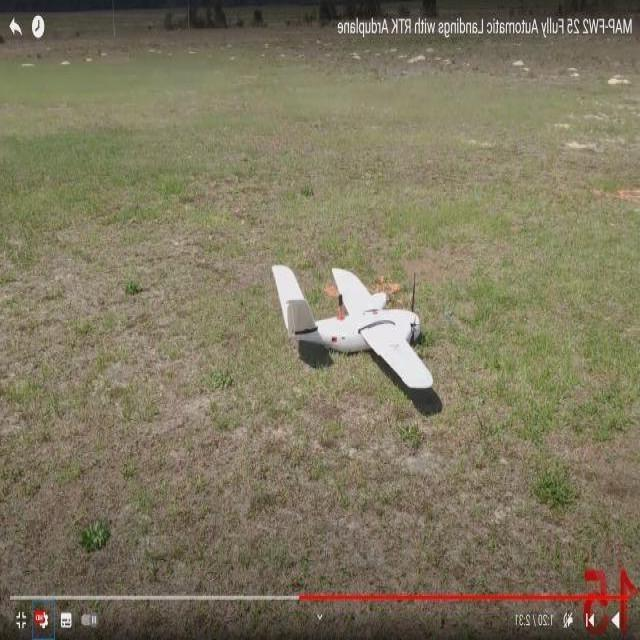Airplane: (266, 254, 446, 401)
